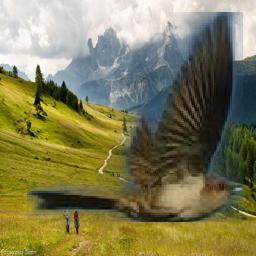Cuckoo: (27, 12, 243, 222)
